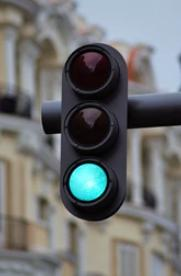green_light: (60, 43, 128, 221)
